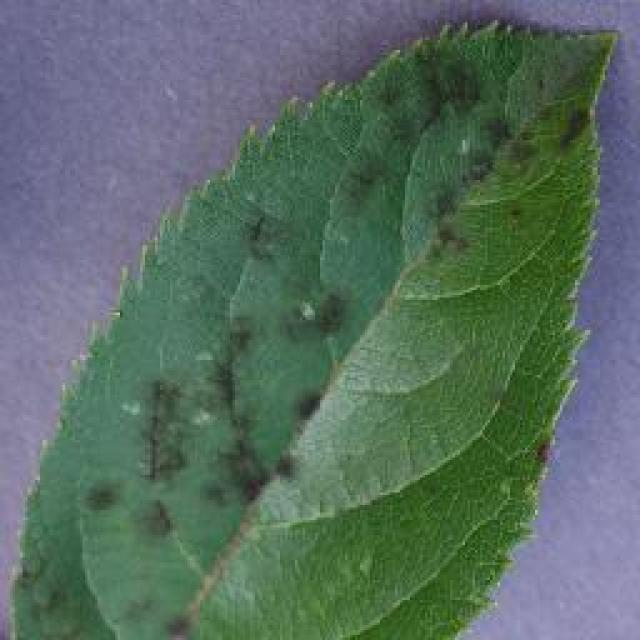apple scab disease: (5, 15, 620, 637)
